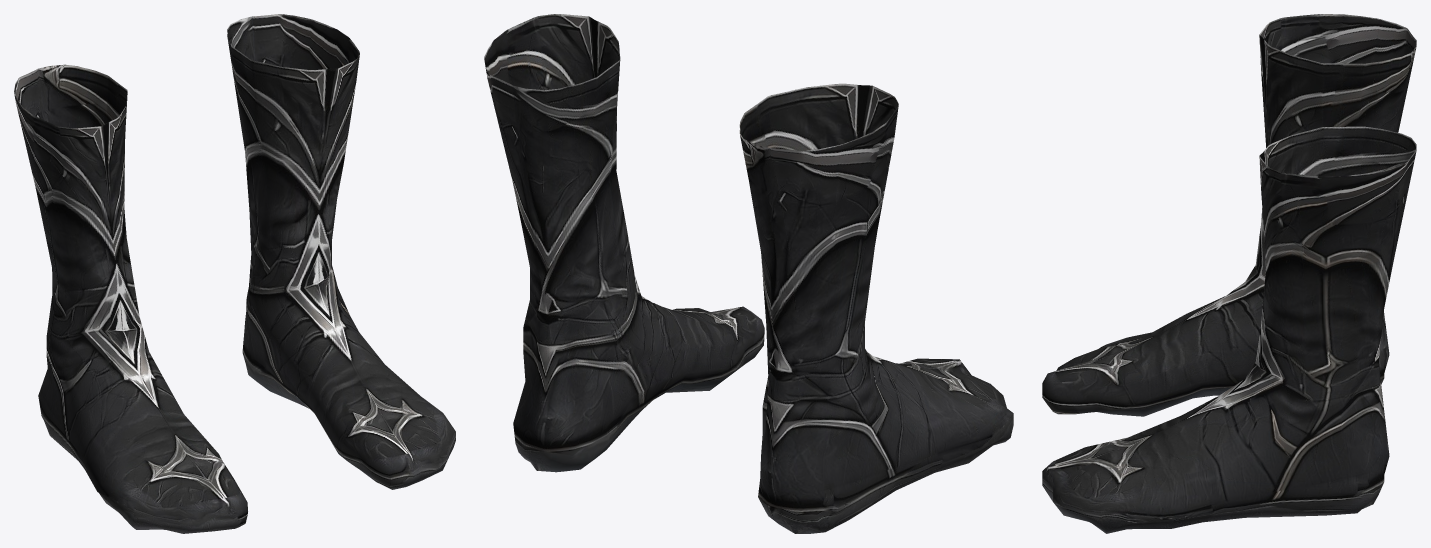
File: BlackMageBoots.glb
3 views of the same model, side by side, from view 1: azimuth 30°, elevation 25°; view 2: azimuth 150°, elevation 25°; view 3: azimuth 270°, elevation 25° (orthographic). The views are drawn at different scales.
Size of the model in its own units: 2 by 2 by 1.87.
1 material, 1 textured.
